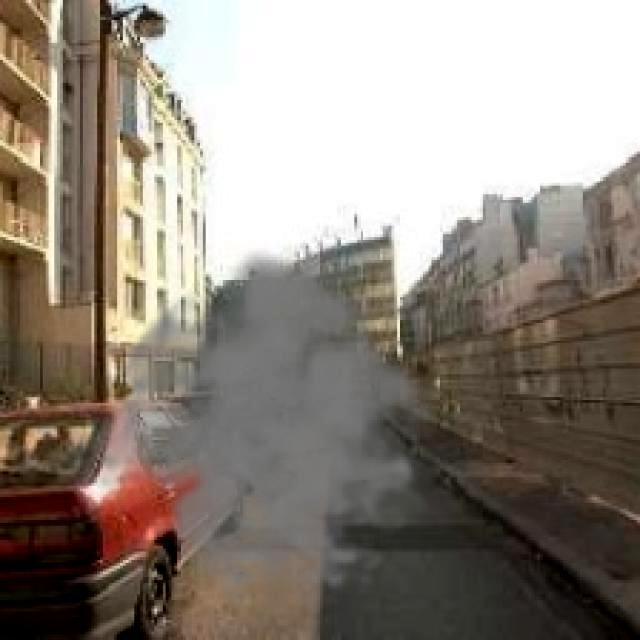Smoke: (83, 249, 451, 612)
